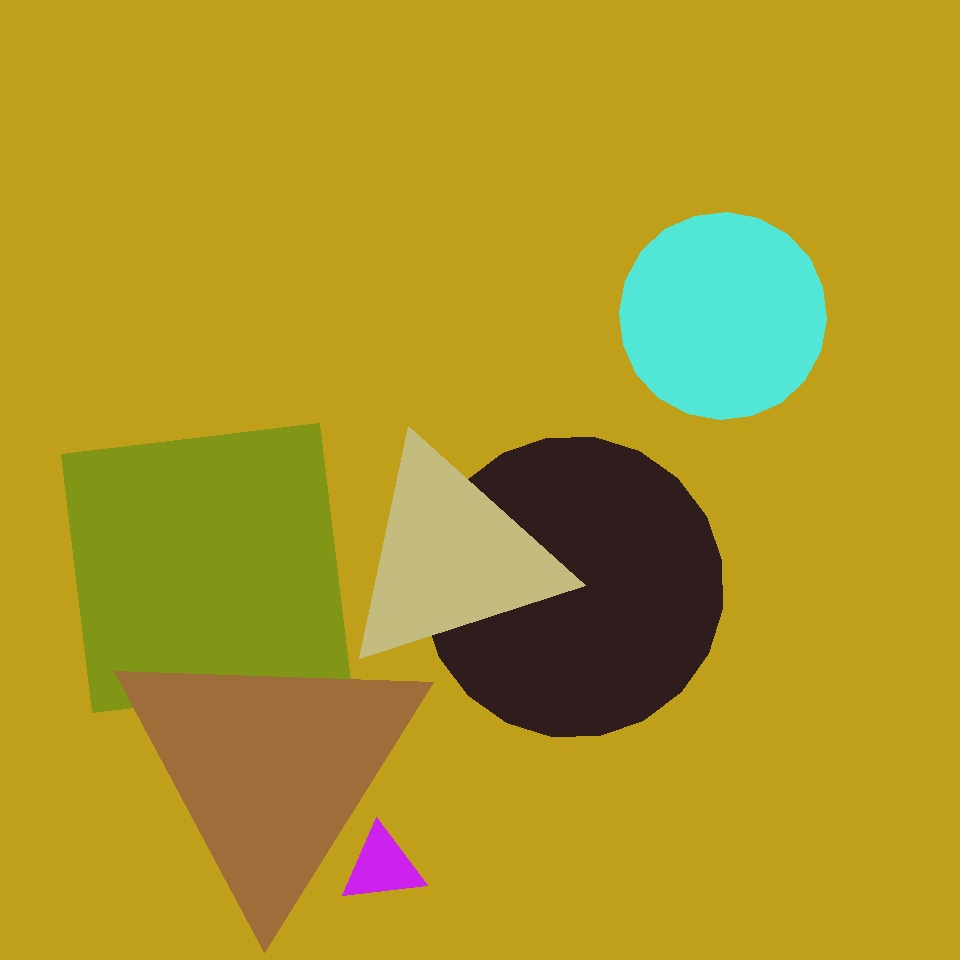circle: (112, 628, 430, 910), (338, 441, 564, 673), (340, 827, 424, 905)
square: (61, 424, 350, 712), (372, 235, 535, 398)
triangle: (358, 590, 717, 949), (424, 437, 723, 736), (620, 212, 826, 420), (646, 155, 779, 287)
